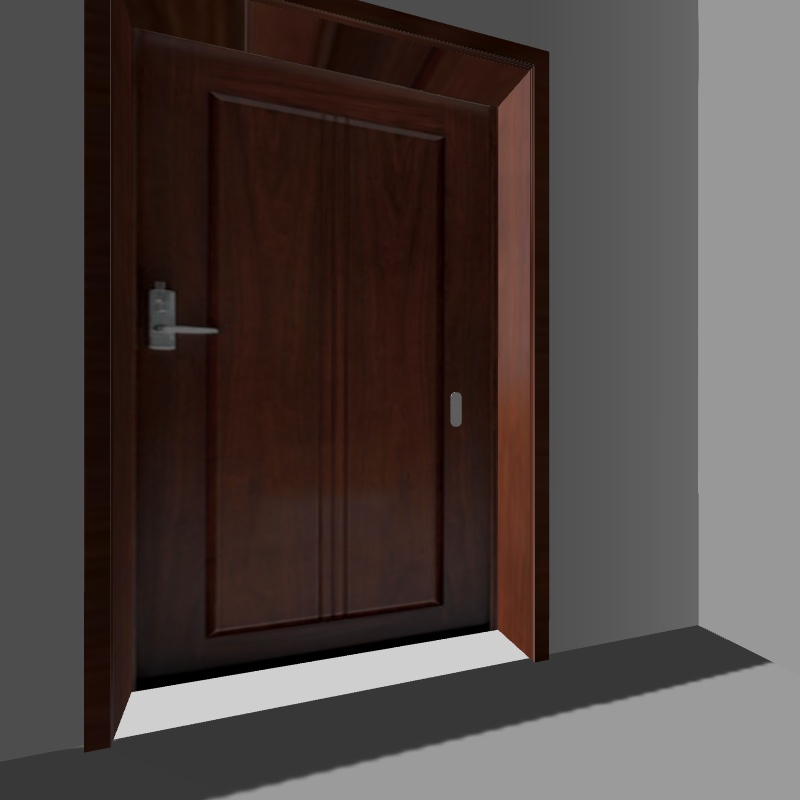handle: (140, 272, 219, 360)
